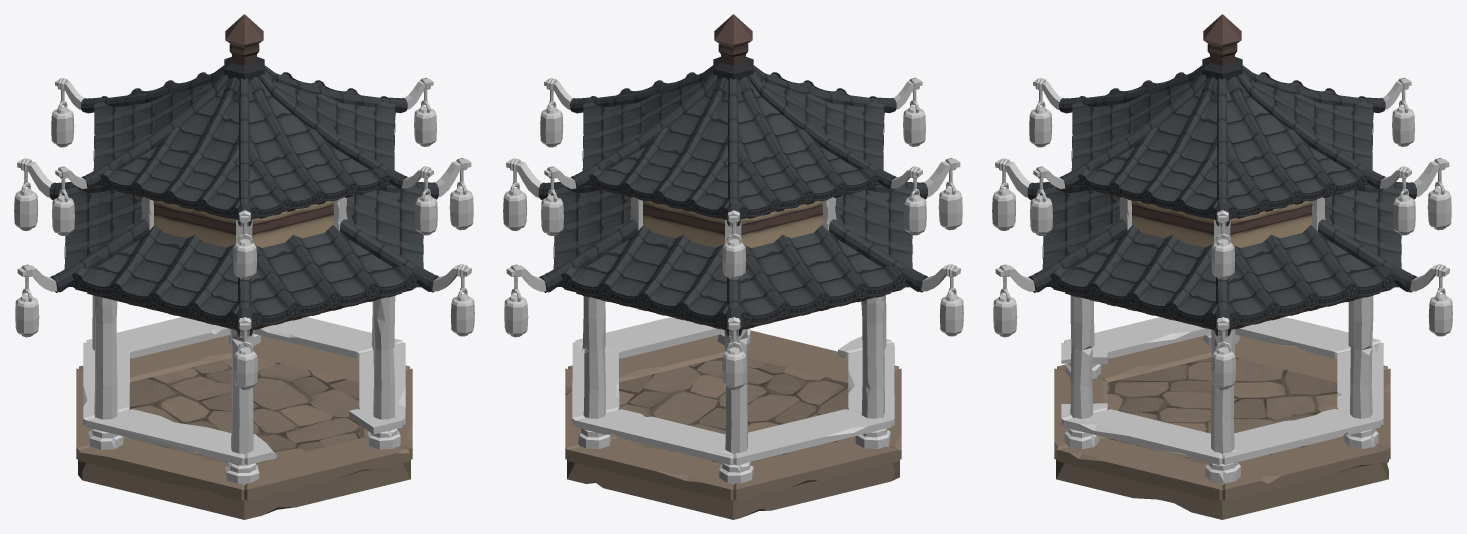
File: SM_Bld_Pagola_01.fbx
3 views of the same model, side by side, from view 1: azimuth 30°, elevation 25°; view 2: azimuth 150°, elevation 25°; view 3: azimuth 270°, elevation 25° (orthographic).
Visible parts, largest first — view 1: SM_Bld_Pagola_01; view 2: SM_Bld_Pagola_01; view 3: SM_Bld_Pagola_01.
Part boxes in pixels (left/top/right/bottom): SM_Bld_Pagola_01: left=14, top=14, right=474, bottom=519; SM_Bld_Pagola_01: left=503, top=14, right=963, bottom=519; SM_Bld_Pagola_01: left=992, top=14, right=1452, bottom=519.
Bounding box in the file's own units: 795 × 706 × 694.
